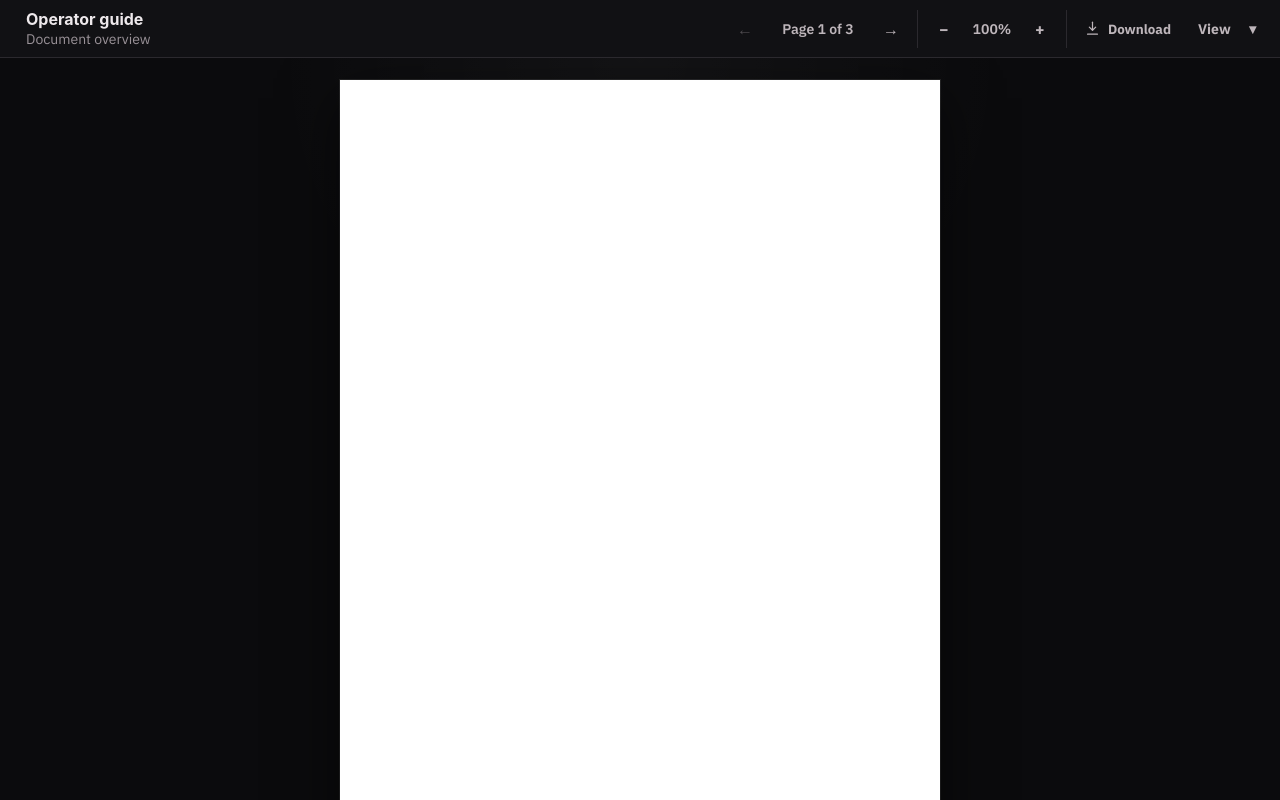
Test: KnowledgePdfViewer › dismisses View options with Escape or an outside pointer action
The image size is (1280, 800).
Expected: the text "Page 1 of 3" is shown, [782,20,854,38]
Click the button with aria-label "View options:" at {"x": 1227, "y": 28}, box [1188,10,1266,48]
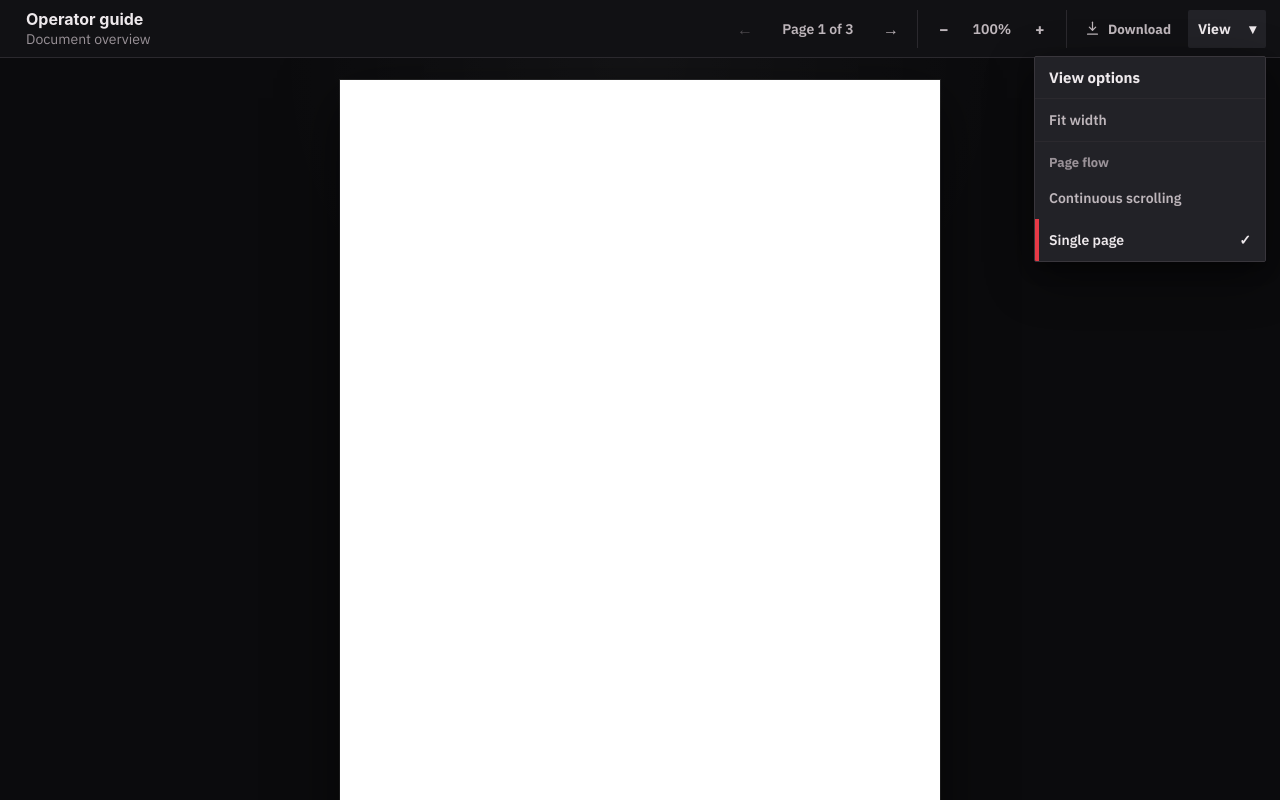
Expected: the dialog "View options" is shown, [1034,56,1266,262]
Press Escape
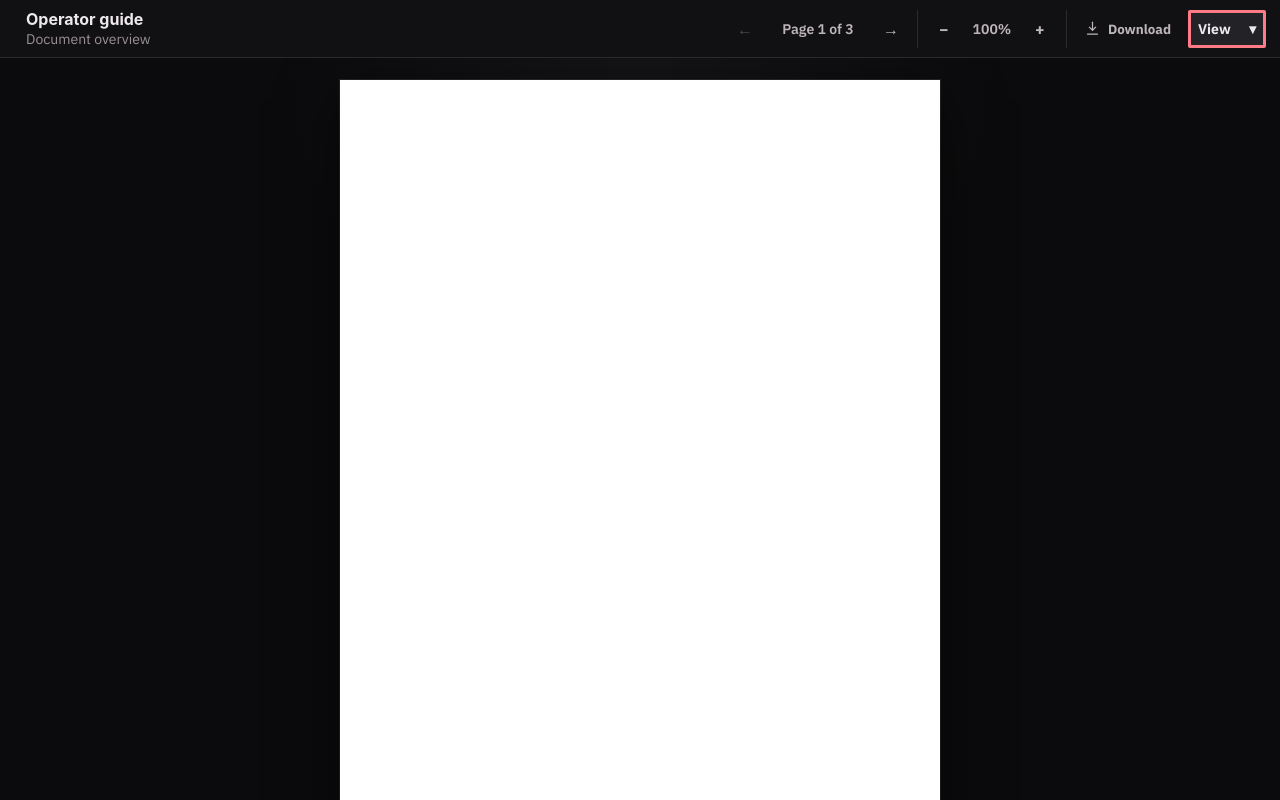
Expected: the text "View options" is gone
Click the button with aria-label "View options:" at {"x": 1227, "y": 28}, box [1188,10,1266,48]
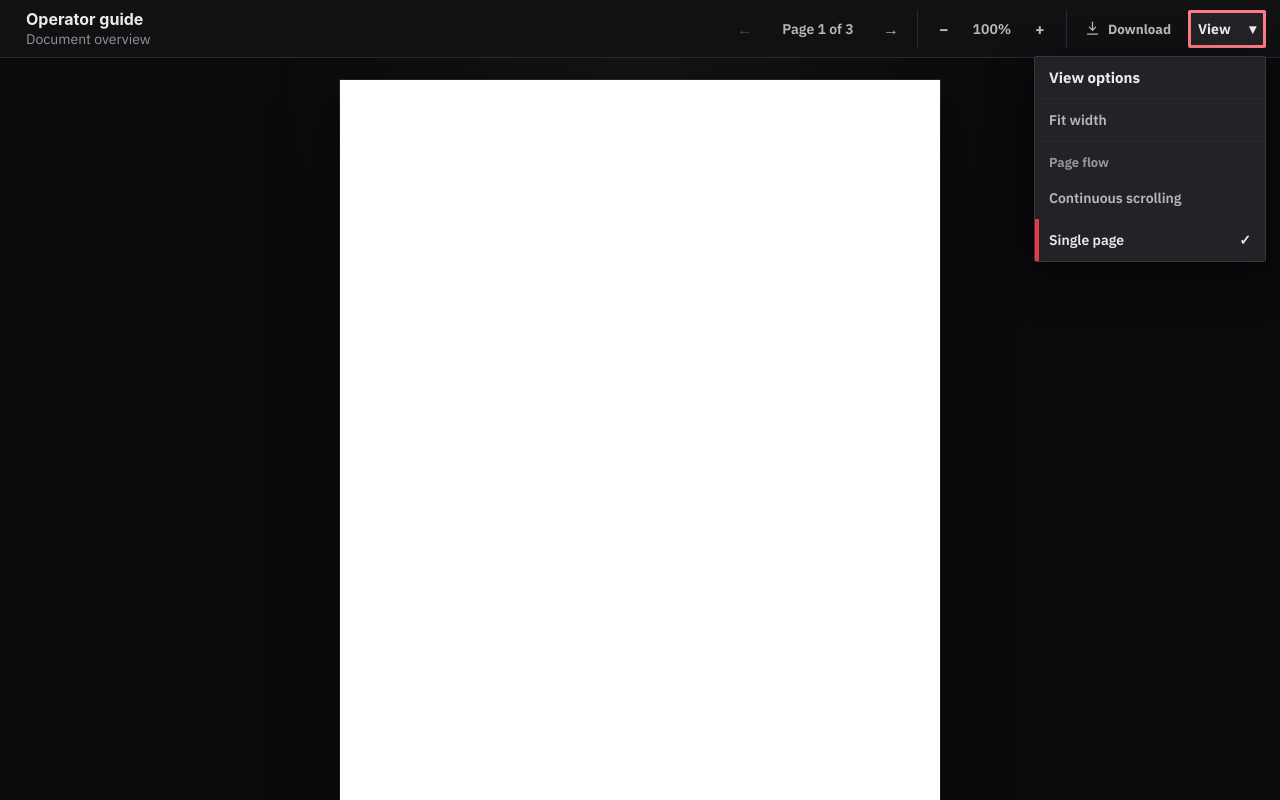
Expected: the dialog "View options" is shown, [1034,56,1266,262]
Press the mouse on the element that starts with "Operator guide" at {"x": 640, "y": 400}, box [0,0,1279,799]
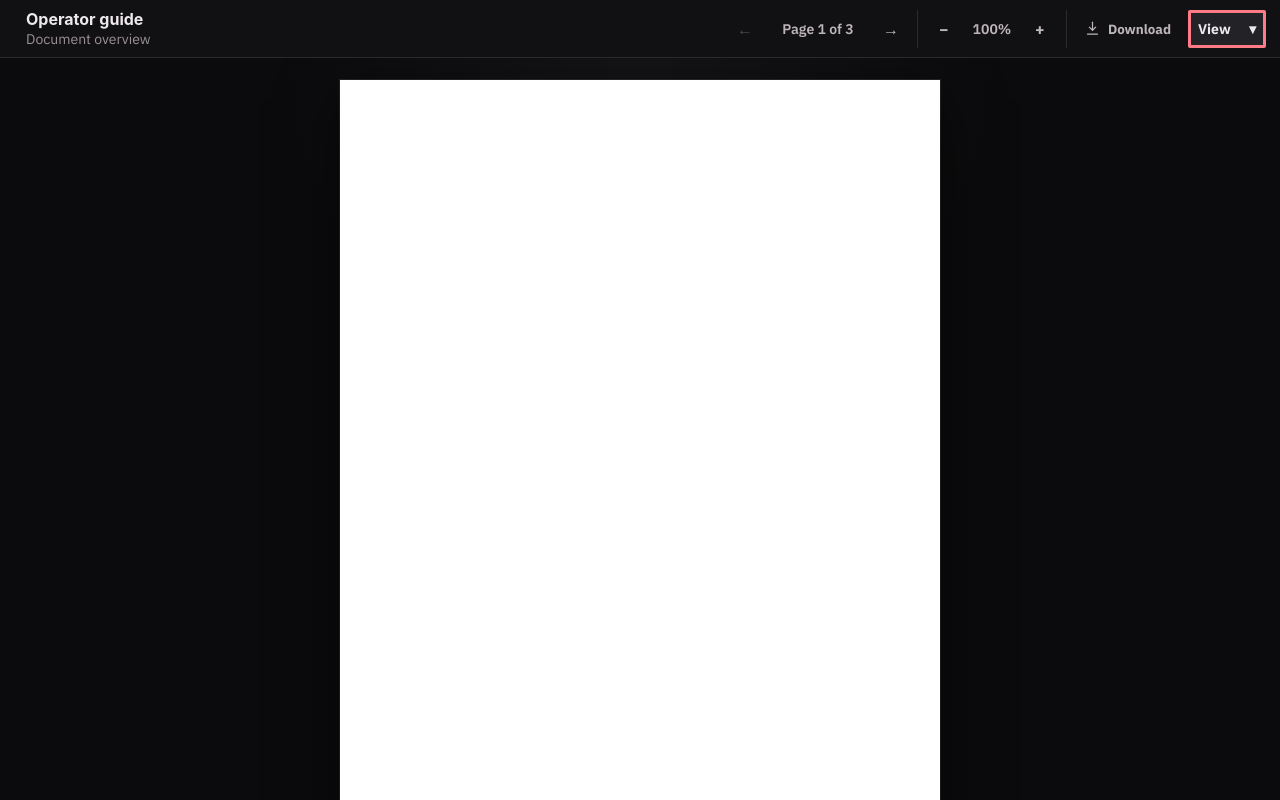
Expected: the text "View options" is gone
